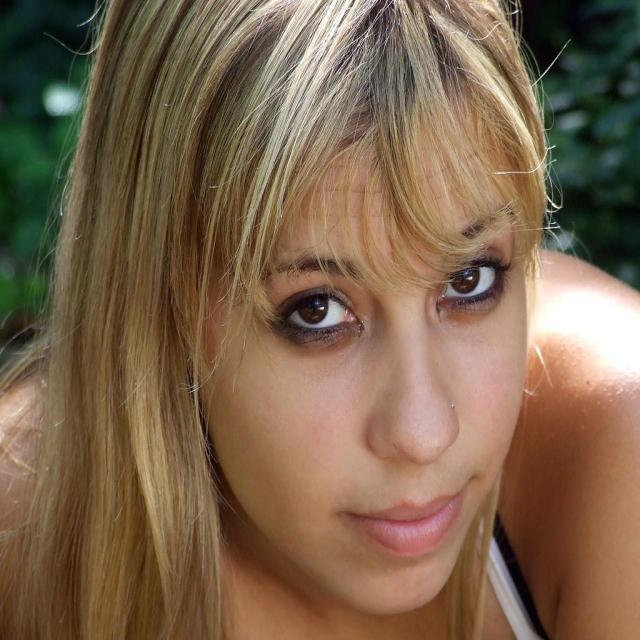Eyebags: (441, 276, 509, 335), (273, 327, 363, 368)
